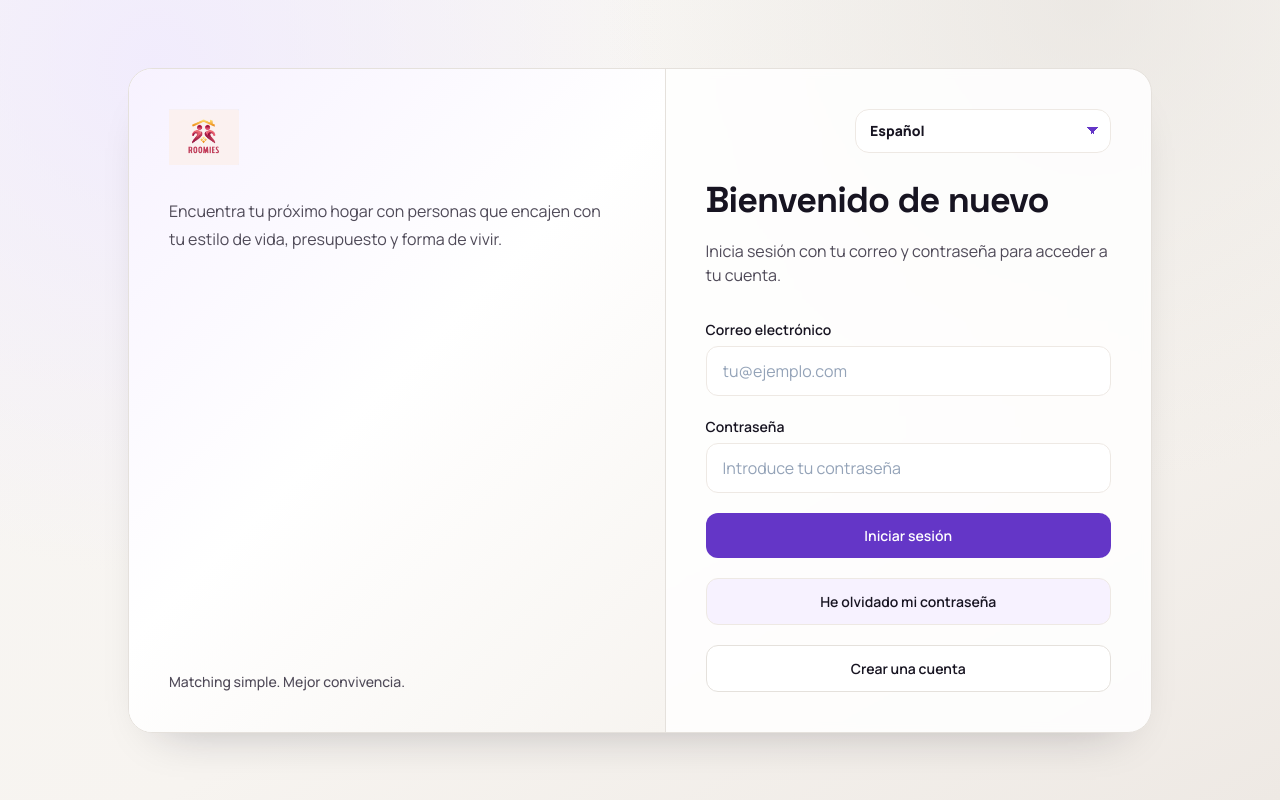
Scenario: LoginPage › shows error if user tries to recover password without email
Click the button "He olvidado mi contraseña".
click(908, 601)  # box left=706, top=578, right=1111, bottom=624
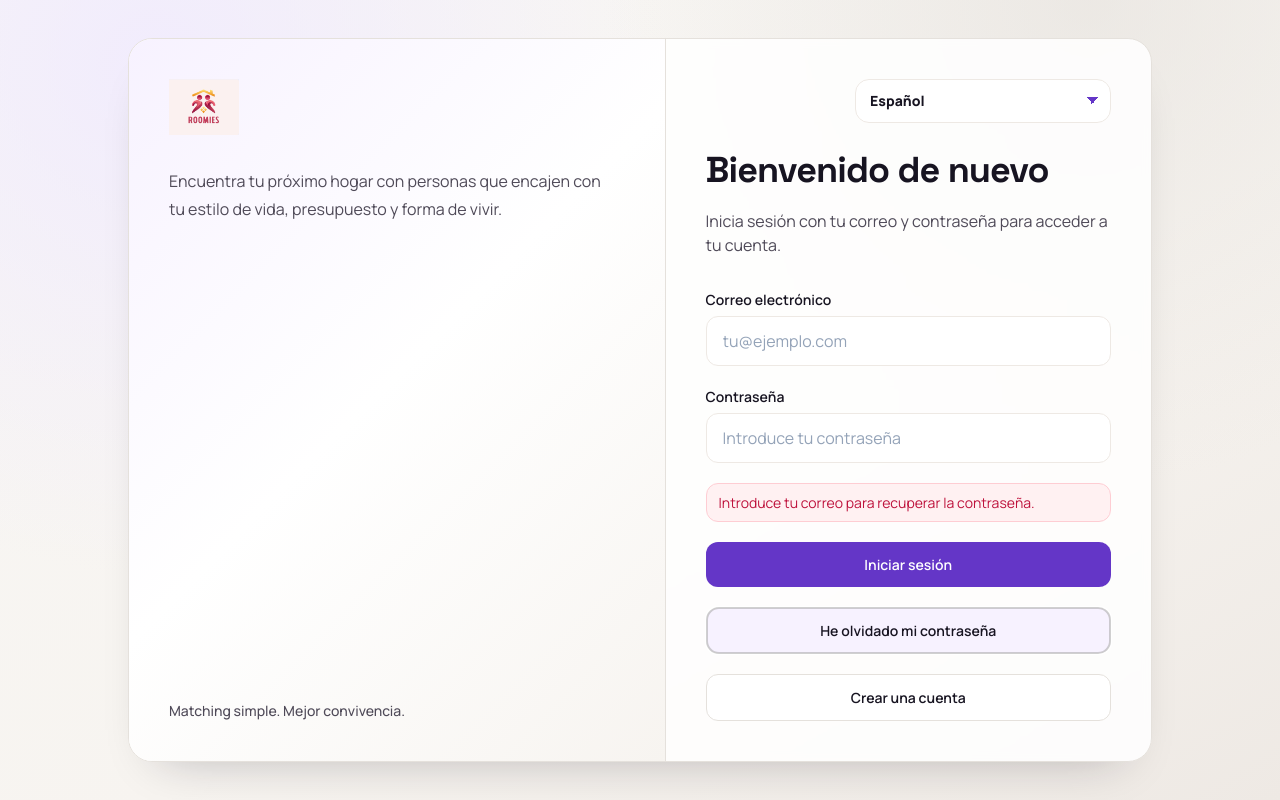
Expected: the text "Introduce tu correo para recuperar la contraseña." is shown, left=706, top=483, right=1111, bottom=522
